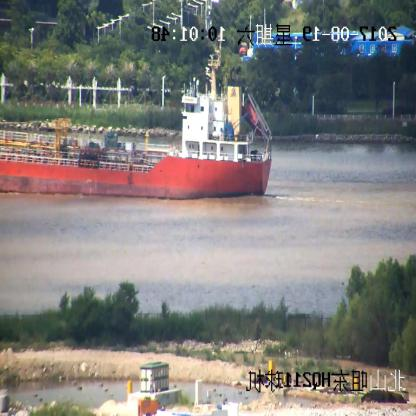Bulk Carrier: (1, 50, 271, 200)
